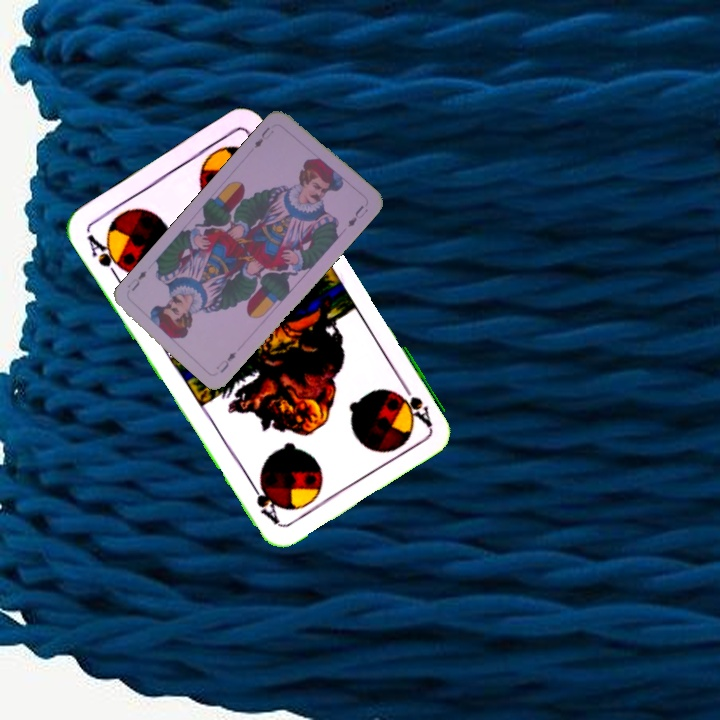EU: (212, 348, 239, 376), (250, 123, 276, 151)
SA: (83, 230, 130, 282), (395, 375, 434, 429)
